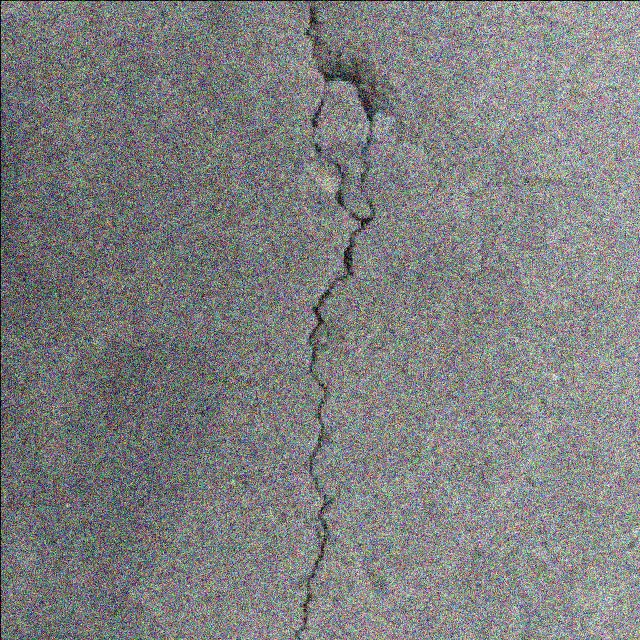SurfaceCrack: (248, 0, 404, 640)
